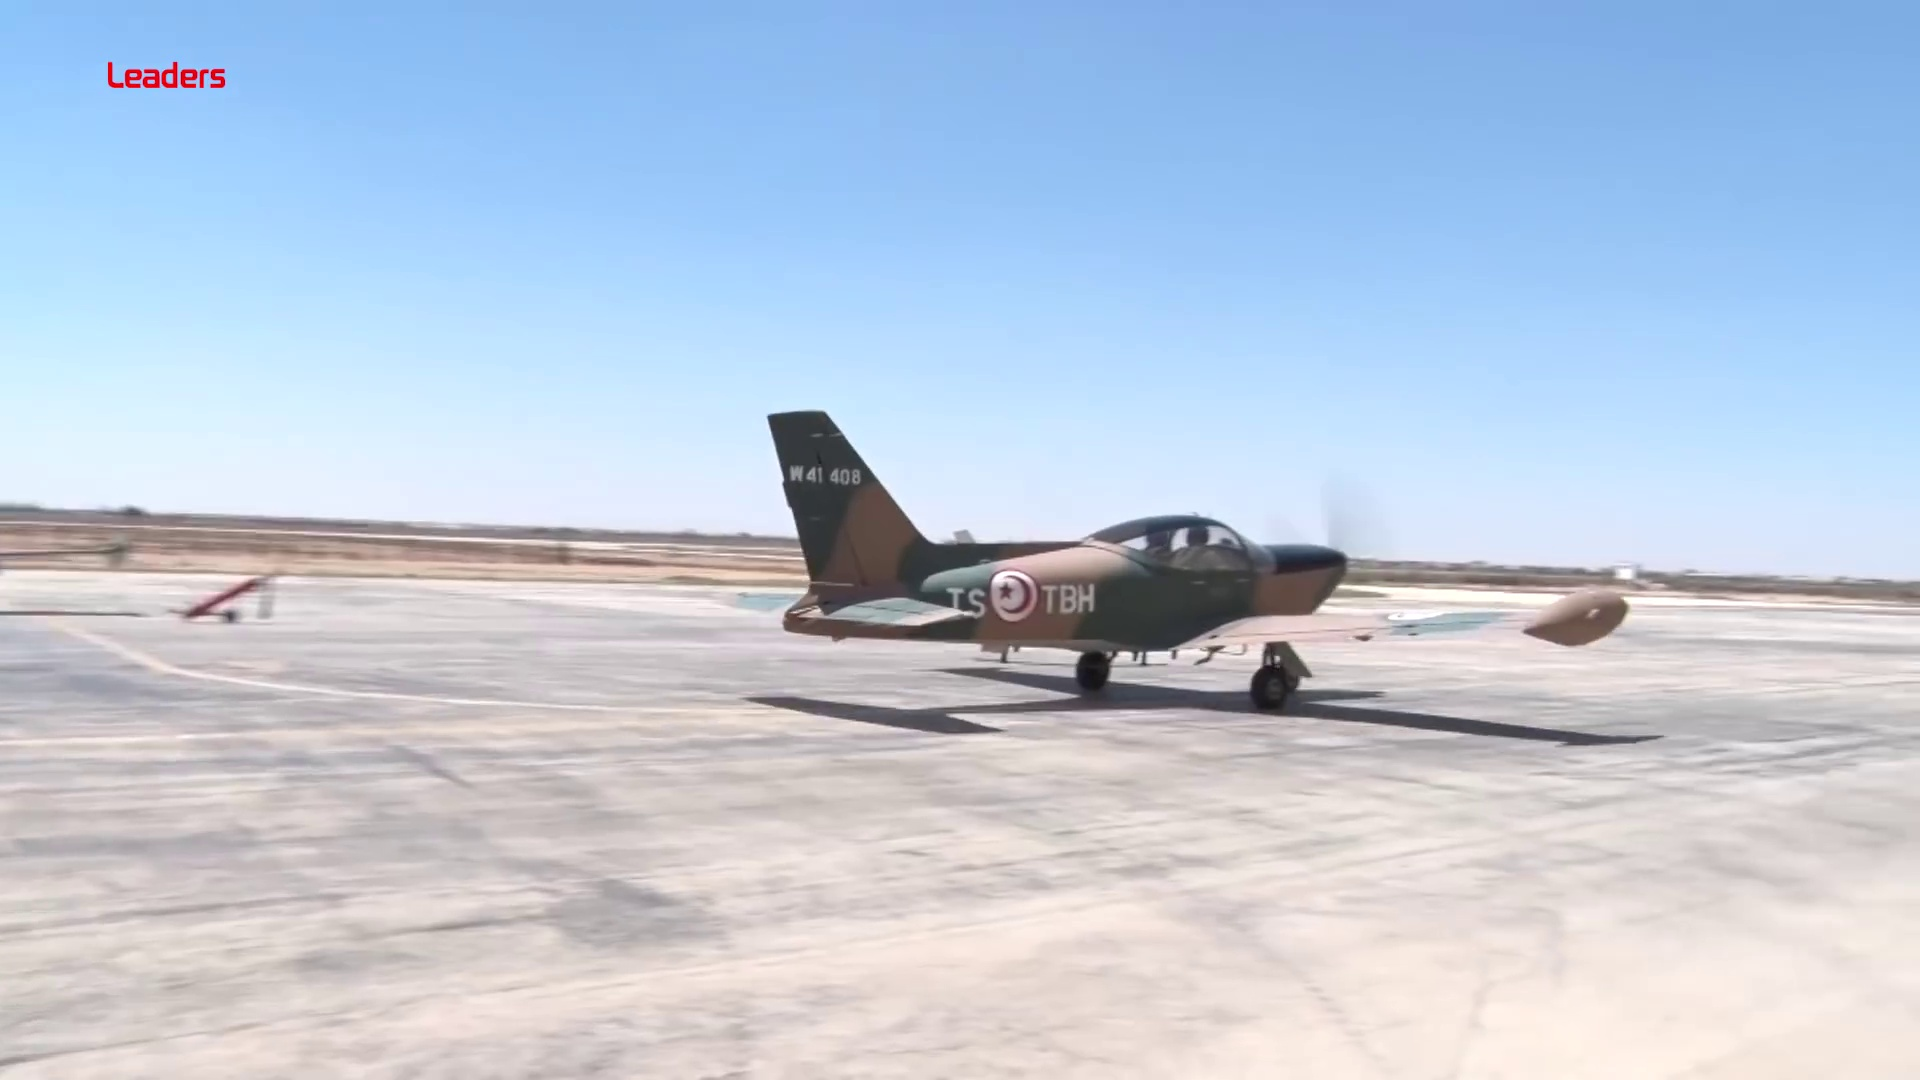Airplane: (756, 404, 1625, 715)
